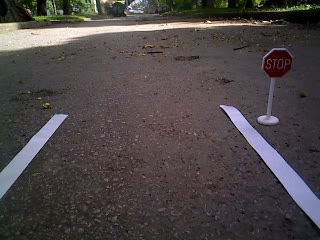Stop: (260, 46, 297, 81)
